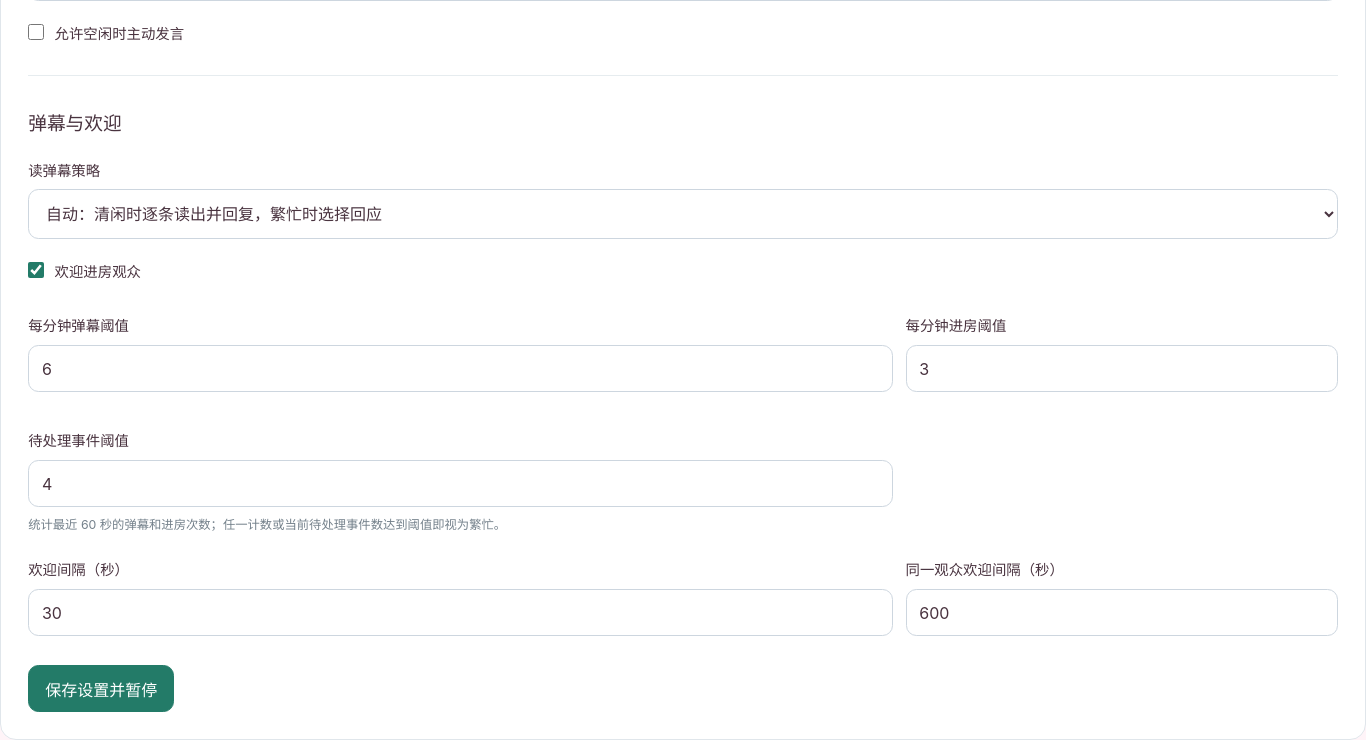
Scenario: 待处理事件阈值 为 513 时保留草稿并拒绝保存
The image size is (1366, 740).
(page scrolled)
Replace the text in the number field labelled "待处理事件阈值" with "513" at (460, 484), box [28,460,893,507]
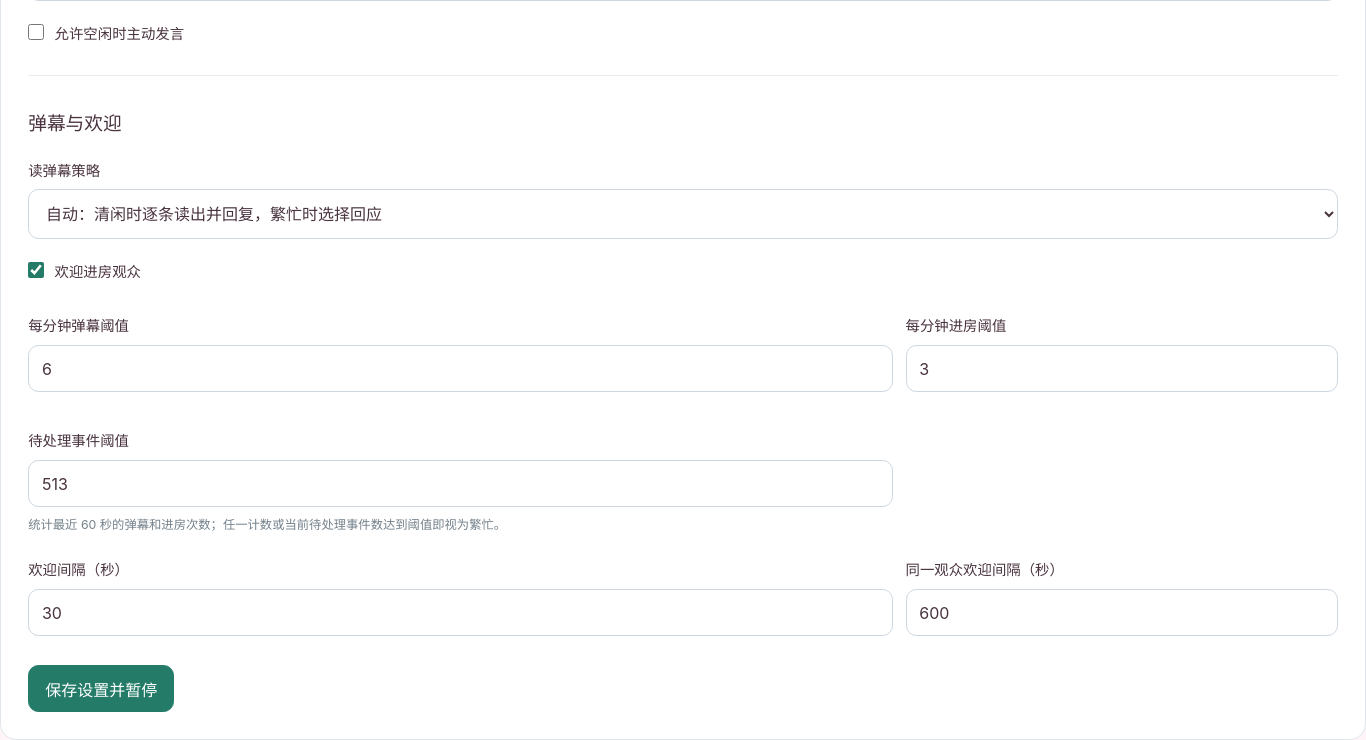
Click the button "保存设置并暂停" at (101, 689), box [28,665,174,712]
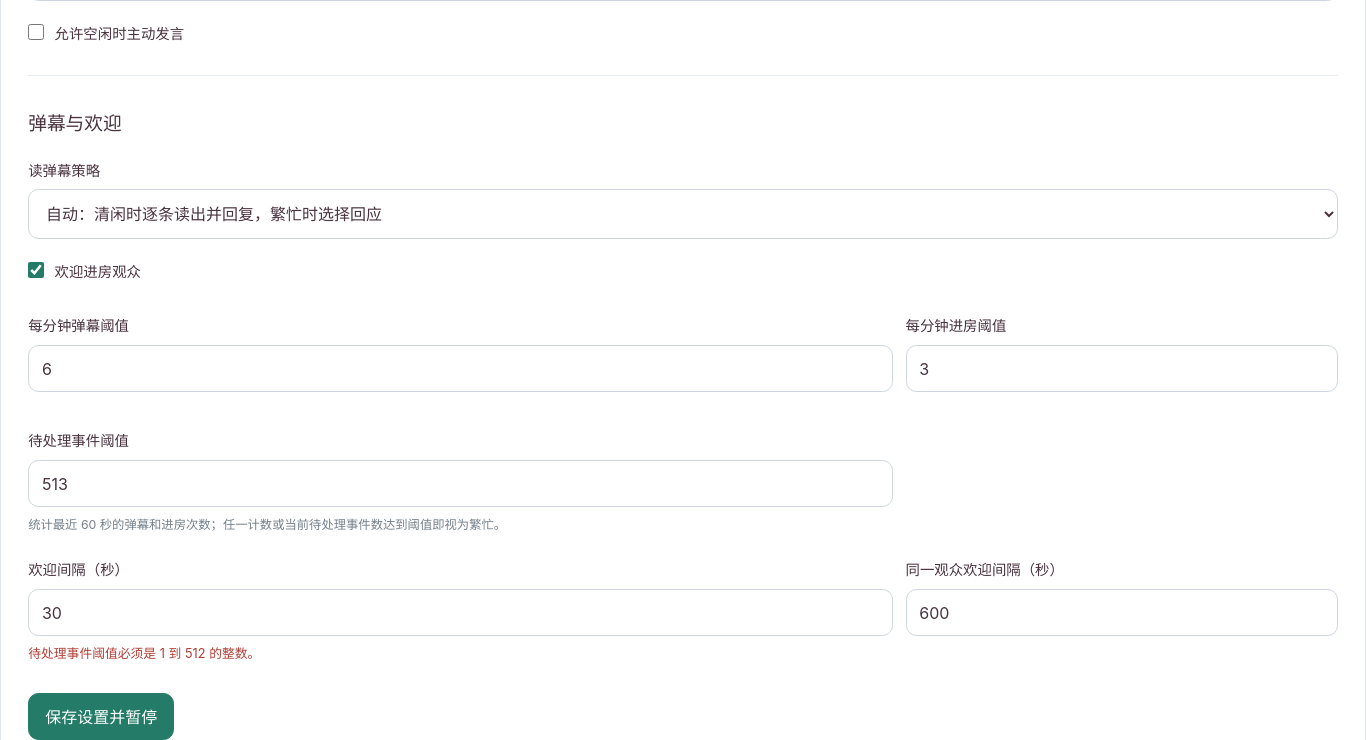
Now the message is shown, box [28,646,260,661]
